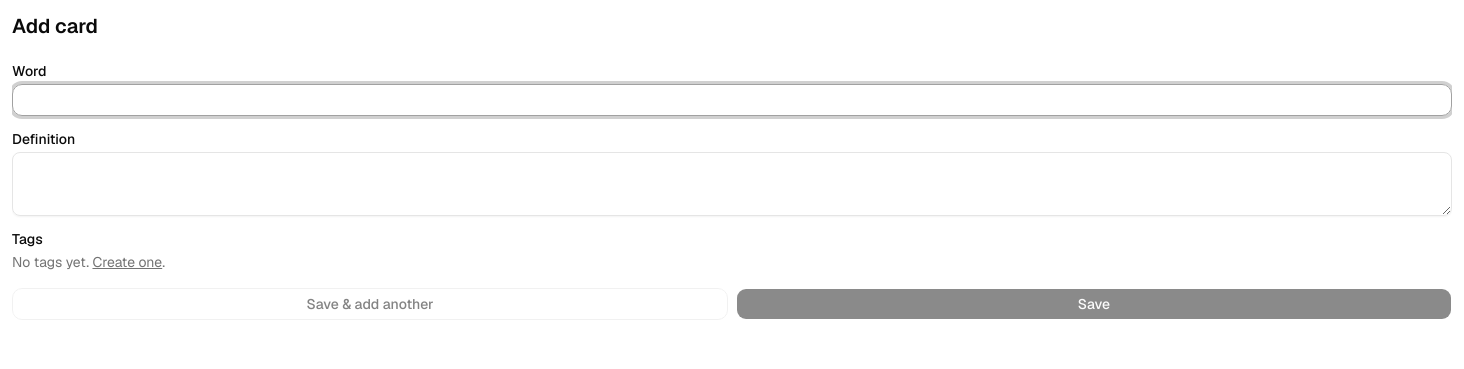
Scenario: AddPage › Save & add another resets fields, bumps counter, stays on page
The image size is (1464, 369).
Step 1. Type "one" into the field labelled "Word" → (732, 100), box left=12, top=84, right=1452, bottom=116
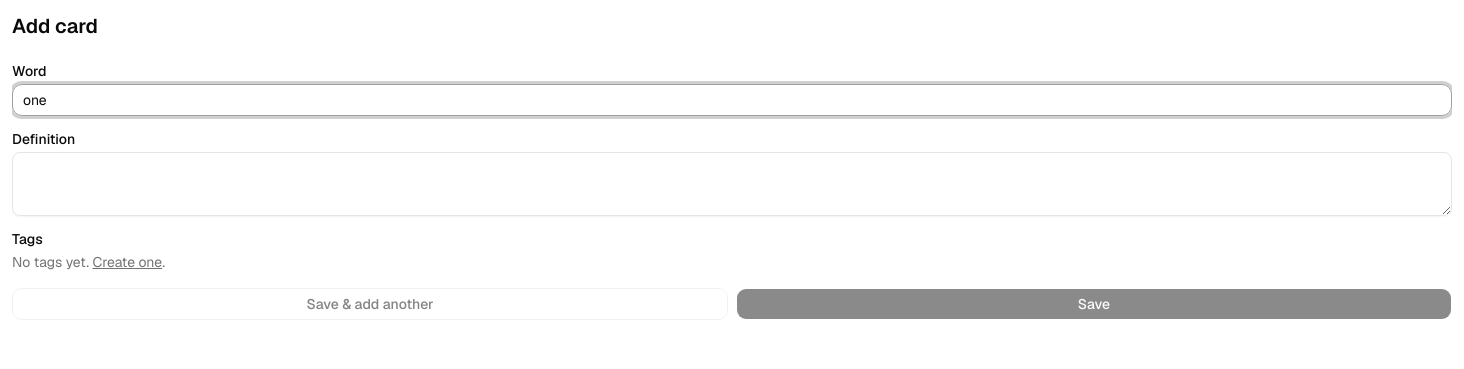
Step 2. Type "1" into the text box labelled "Definition" → (732, 184), box left=12, top=152, right=1452, bottom=216
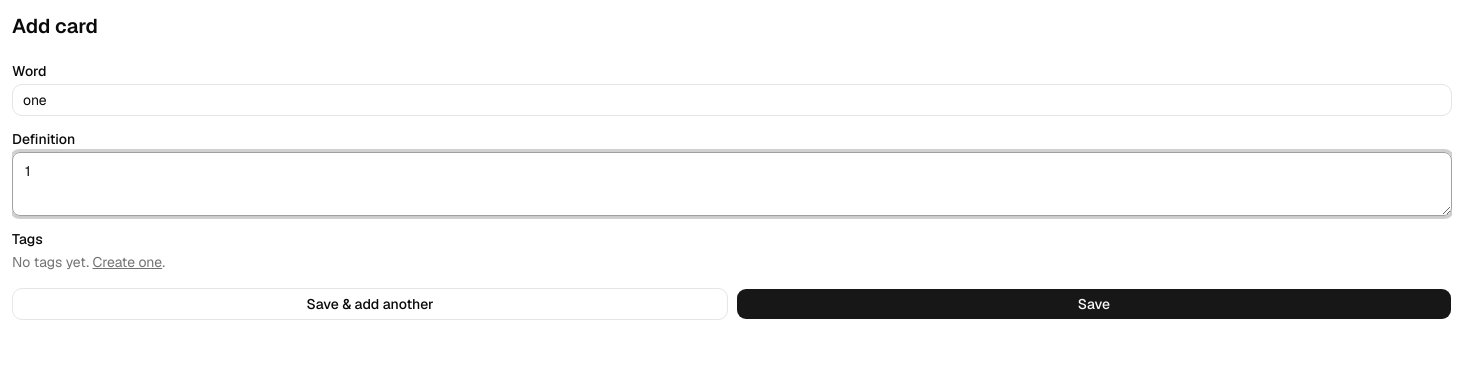
Step 3. Click the button "Save & add another" → (370, 304), box left=12, top=288, right=728, bottom=320
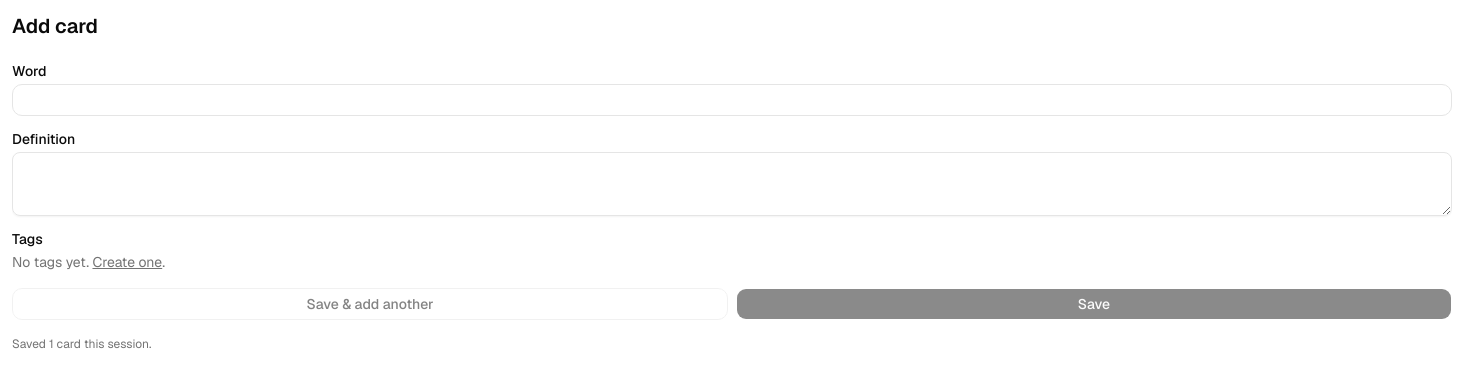
Expected: the text box labelled "Definition" is empty, left=12, top=152, right=1452, bottom=216
Expected: the field labelled "Word" is empty
Expected: the text "Saved 1 card this session." is shown, left=12, top=336, right=151, bottom=352
Step 4. Type "two" into the field labelled "Word" → (732, 100), box left=12, top=84, right=1452, bottom=116
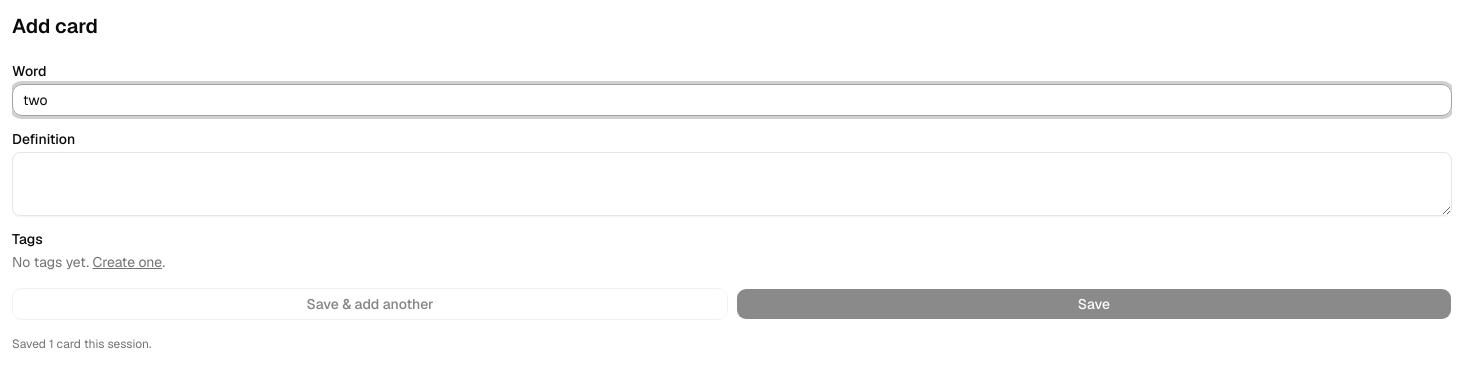
Step 5. Type "2" into the text box labelled "Definition" → (732, 184), box left=12, top=152, right=1452, bottom=216
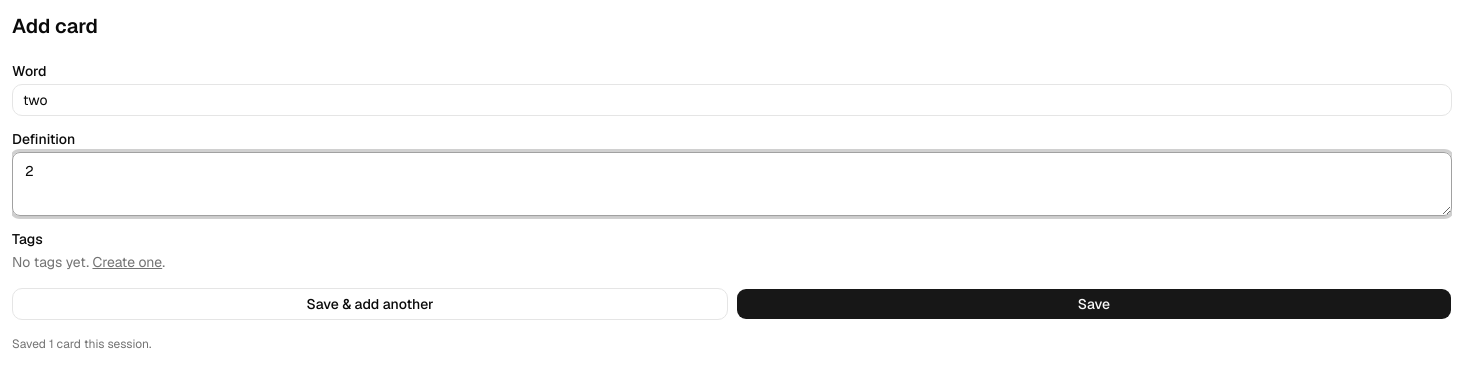
Step 6. Click the button "Save & add another" → (370, 304), box left=12, top=288, right=728, bottom=320
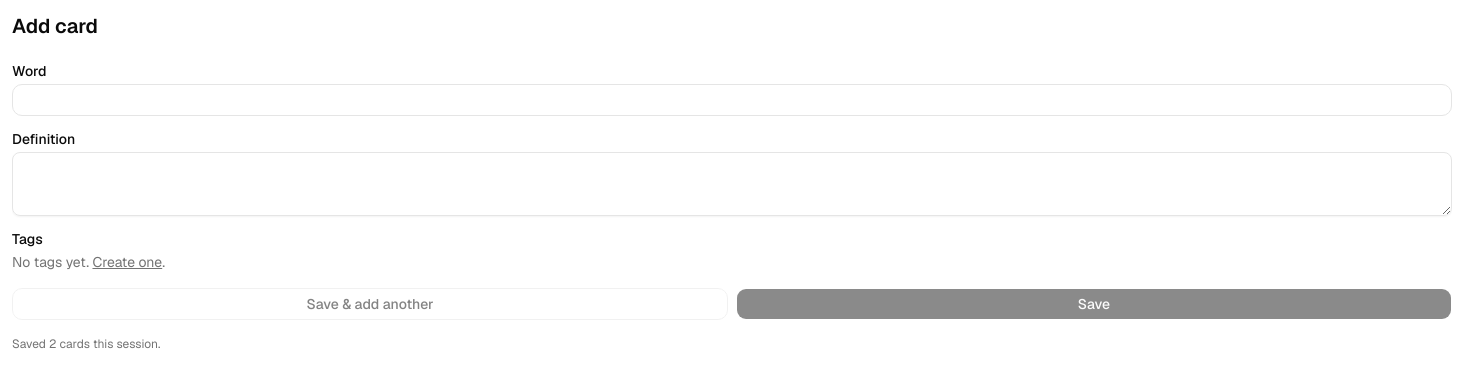
Expected: the text "Saved 2 cards this session." is shown, left=12, top=336, right=160, bottom=352
